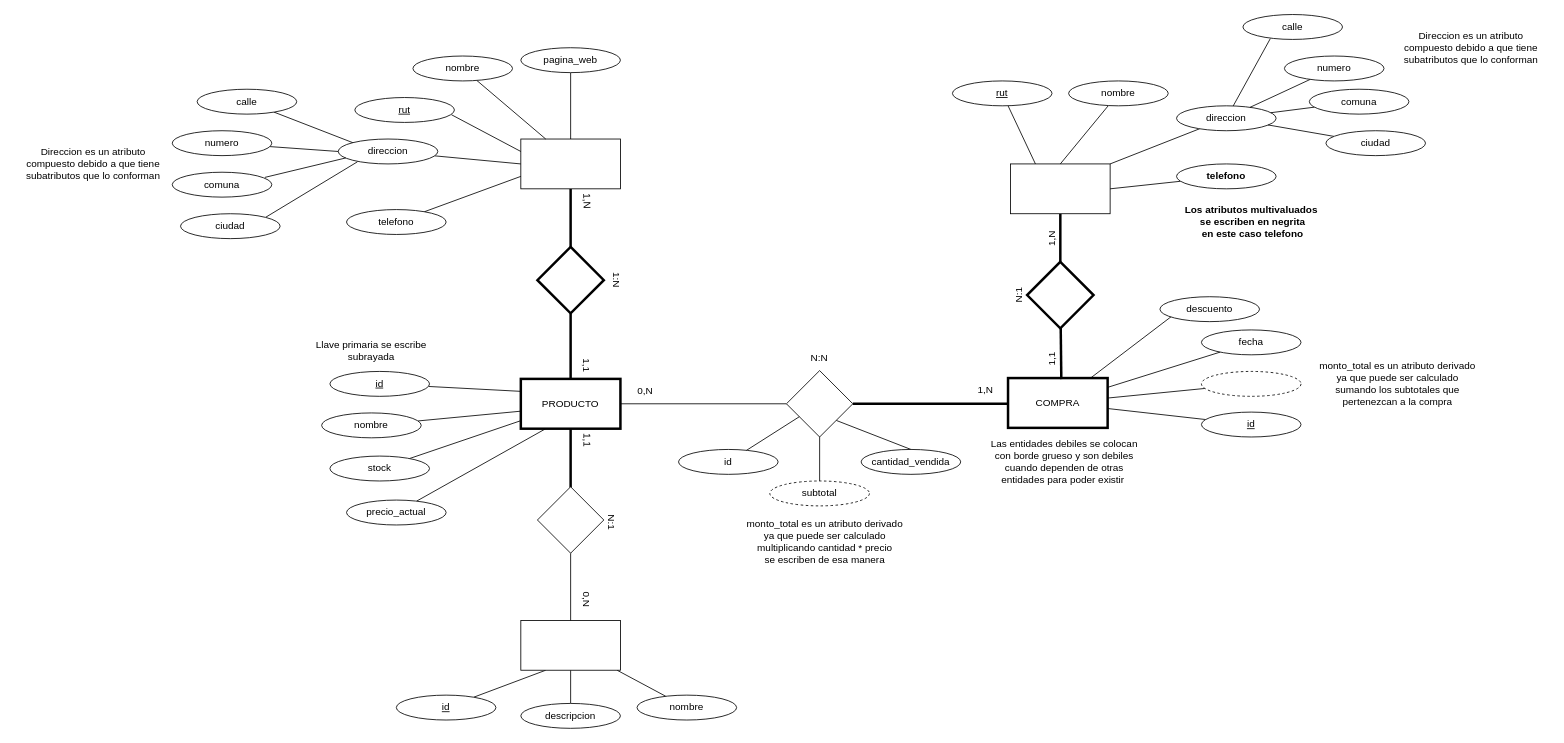
The diagram is 1564 pixels wide and 743 high, and some of its shapes have lost their labels. The centre of each missing label's shape, as x and y in pixels:
"CATEGORIA" goes at pixel 570 645.
"clasifica" goes at pixel 570 519.
"CLIENTE" goes at pixel 1060 188.
"es incluido" goes at pixel 819 403.
"monto_final" goes at pixel 1251 383.
"provee" goes at pixel 570 279.
"PROVEEDOR" goes at pixel 570 163.
"realiza" goes at pixel 1059 294.
